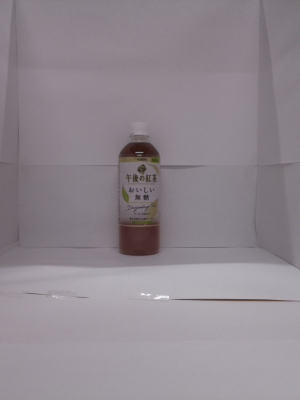午後の紅茶: (110, 115, 168, 262)
